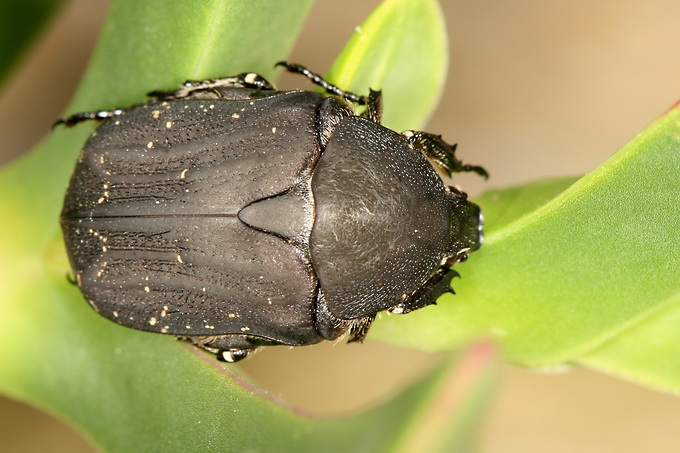Protaetia_morio_morio: (30, 52, 497, 392)
